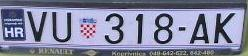-: (178, 26, 187, 32)
1: (134, 12, 146, 44)
3: (103, 12, 125, 45)
8: (152, 12, 175, 45)
A: (189, 13, 210, 44)
K: (214, 13, 236, 45)
U: (51, 11, 73, 44)
V: (26, 10, 47, 43)
